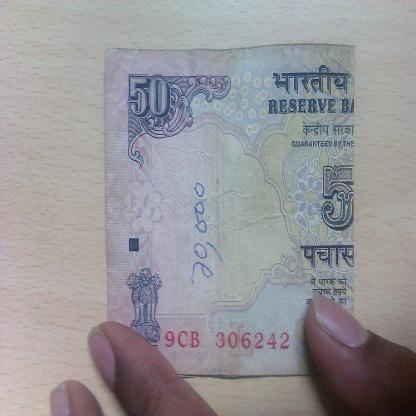Old50Front: (103, 42, 356, 380)
